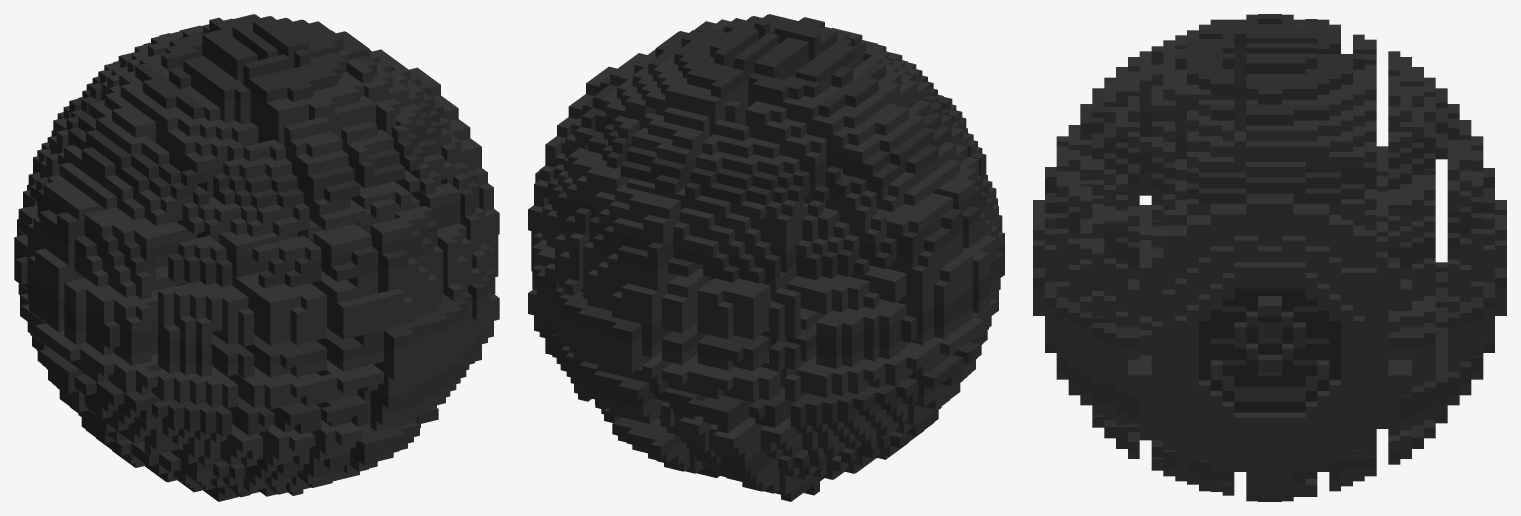
File: звезда смерти.obj
3 views of the same model, side by side, from view 1: azimuth 30°, elevation 25°; view 2: azimuth 150°, elevation 25°; view 3: azimuth 270°, elevation 25° (orthographic). The views are drawn at different scales.
Size of the model in its own units: 3.9 by 4 by 4.
Materials: 1 (1 with a texture image).
